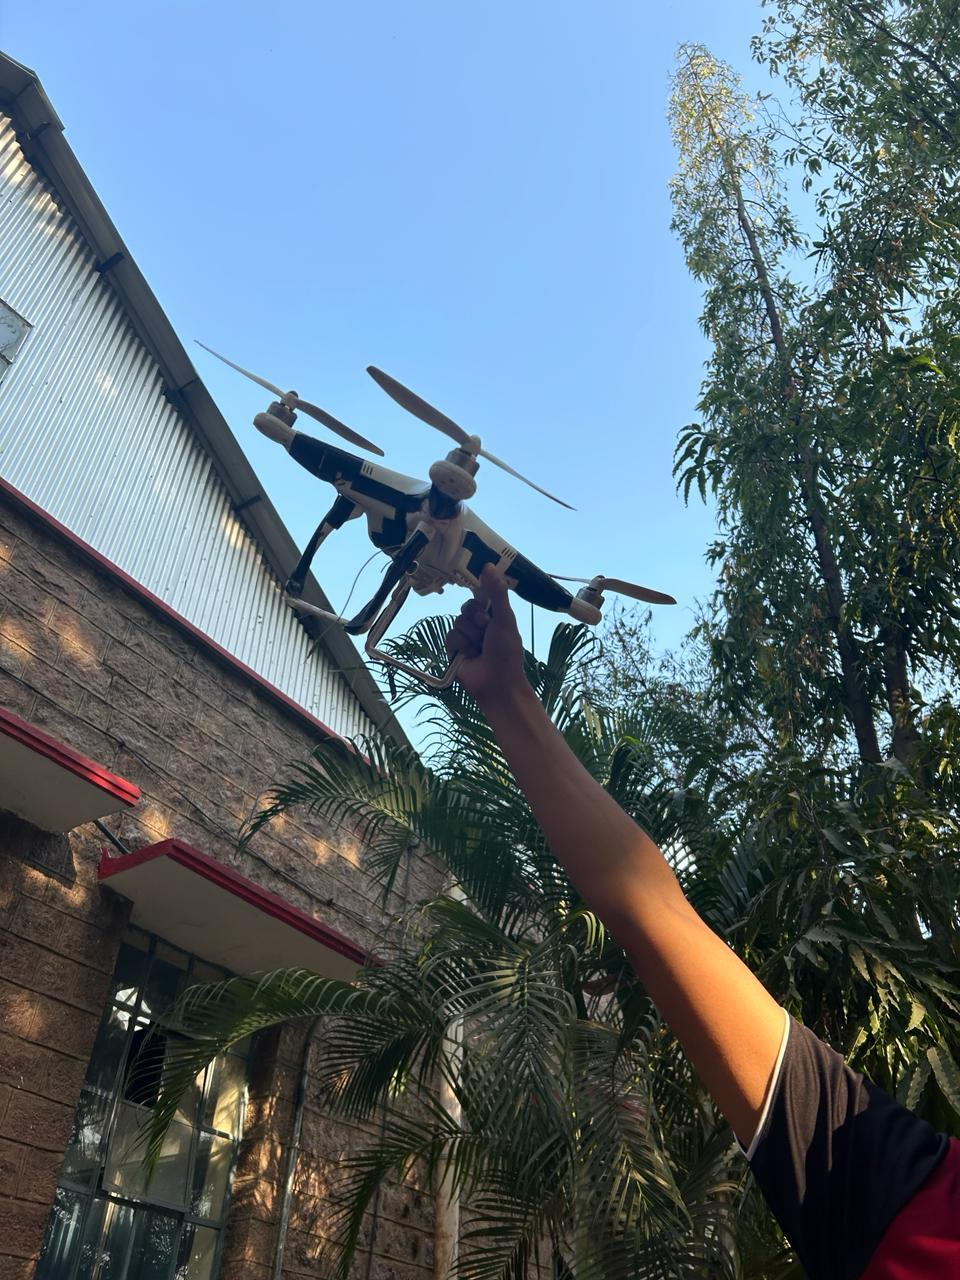drone: (200, 343, 702, 696)
